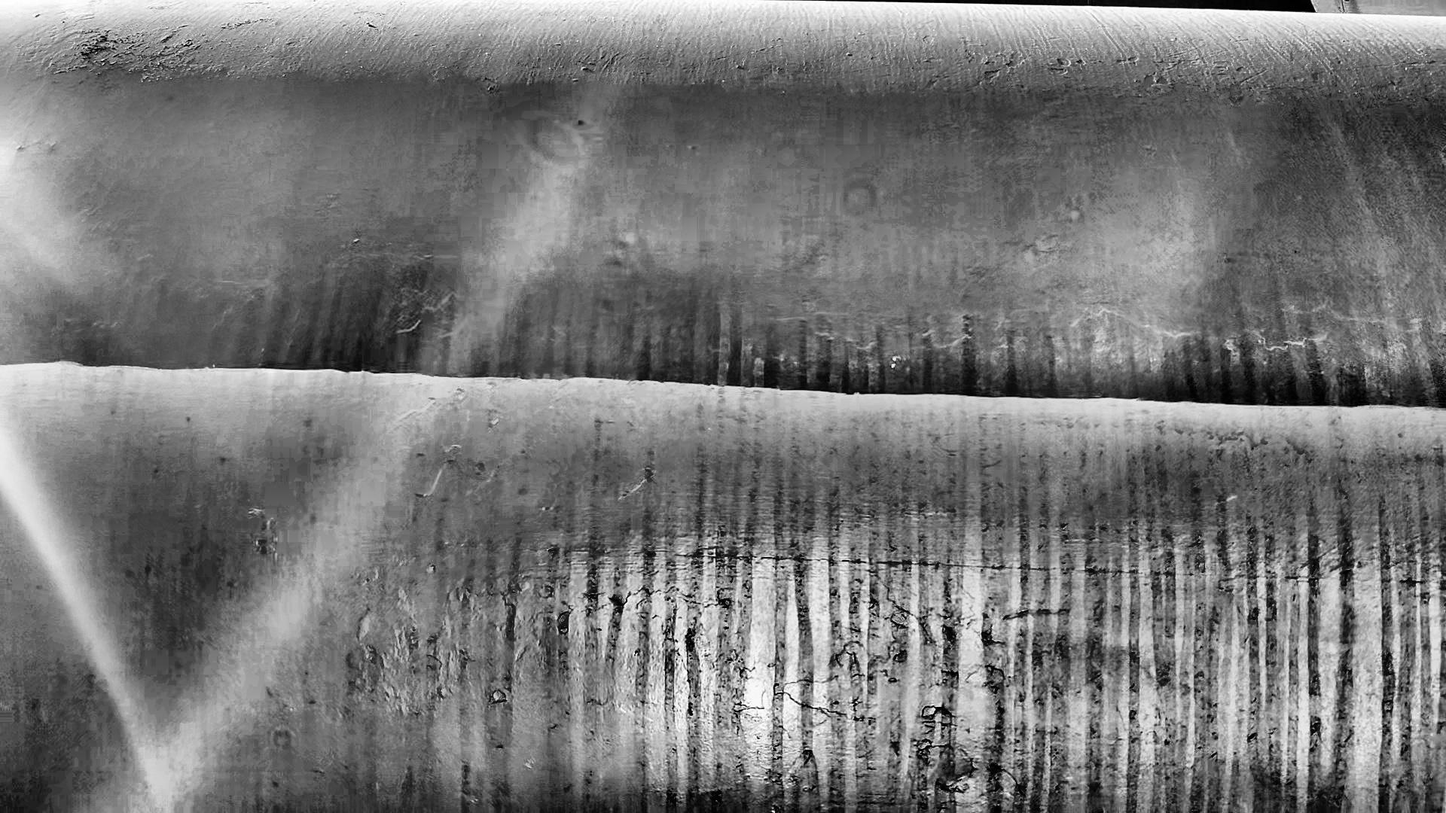paint-peel-off: (95, 29, 119, 53), (556, 611, 571, 634), (610, 593, 631, 607), (936, 706, 953, 719), (686, 630, 695, 653), (944, 626, 956, 643)
